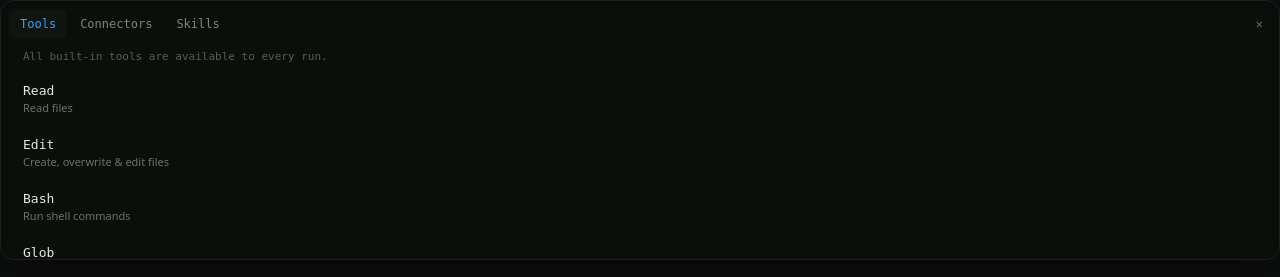
Test case: SkillsPopover (read-only capability display) › lists discovered skills (name + description, read-only)
This screenshot has width=1280, height=277.
Step 1. Click the button "Skills" → (198, 24), box [165,9,231,39]
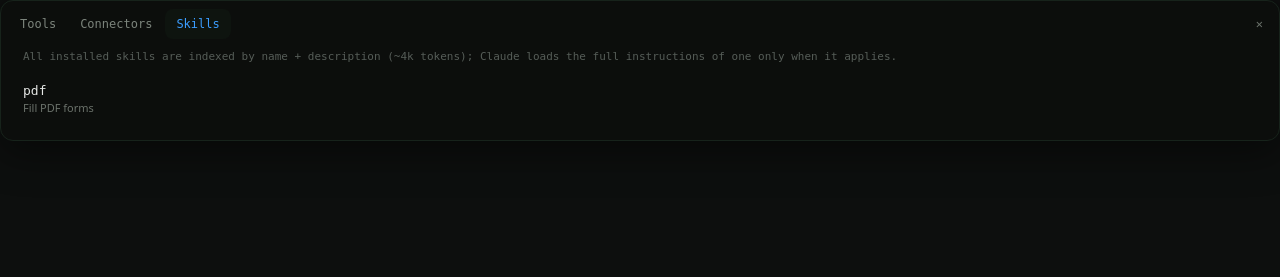
Now the element with test id "cap-item-pdf" shows "Fill PDF forms", box [23,100,94,115]
